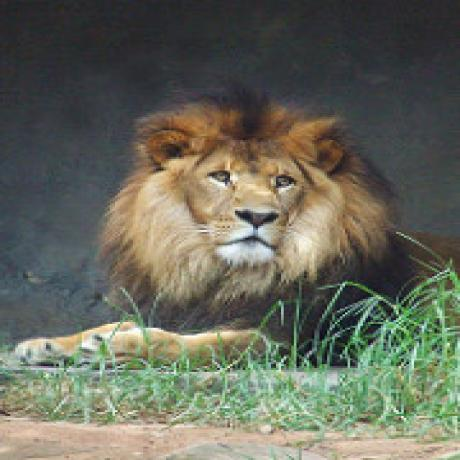Lion: (18, 93, 460, 366)
